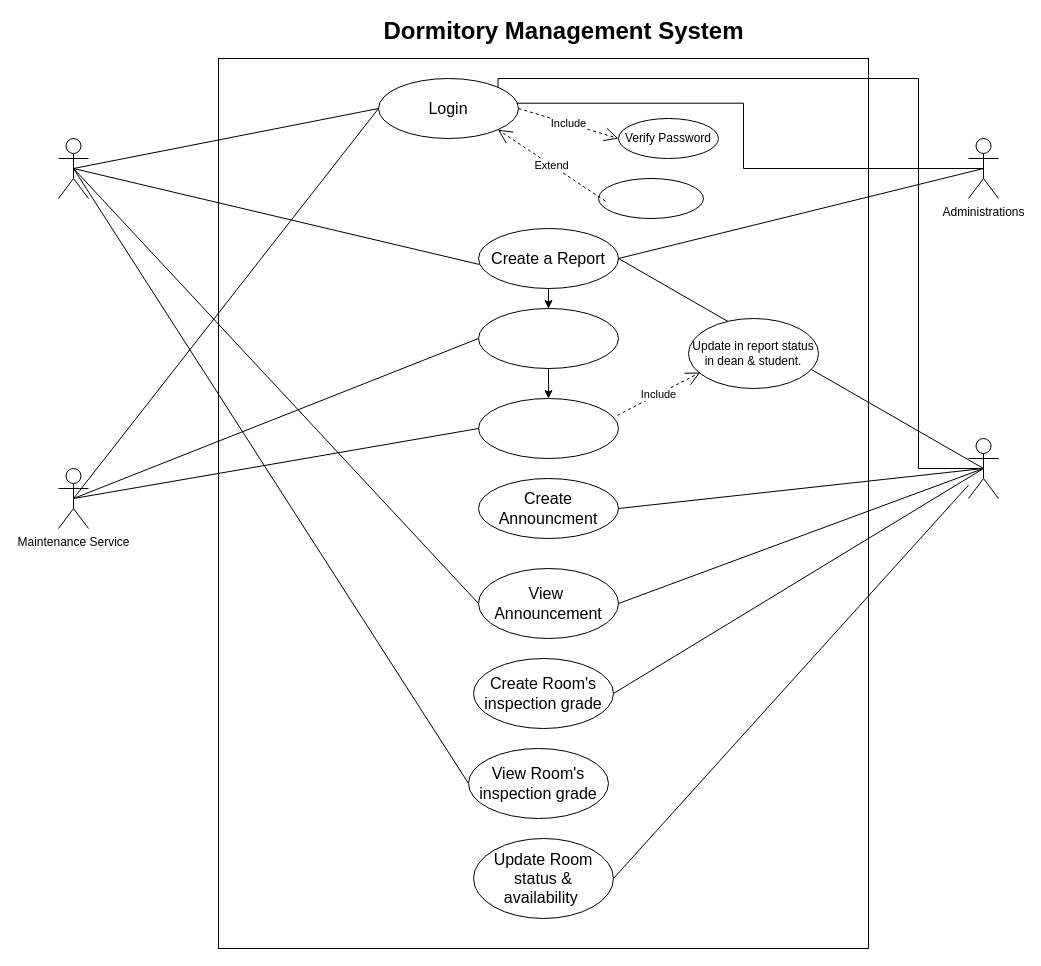
Some shapes in this 1041 by 966 pixel diagram are drawn without their labels. The centre of each missing label's shape, as x and y in pixels:
"Dean" belongs at [983,468].
"Display login error" belongs at [651,198].
"Student" belongs at [73,168].
"Update report Status" belongs at [548,428].
"View Reports" belongs at [548,338].
